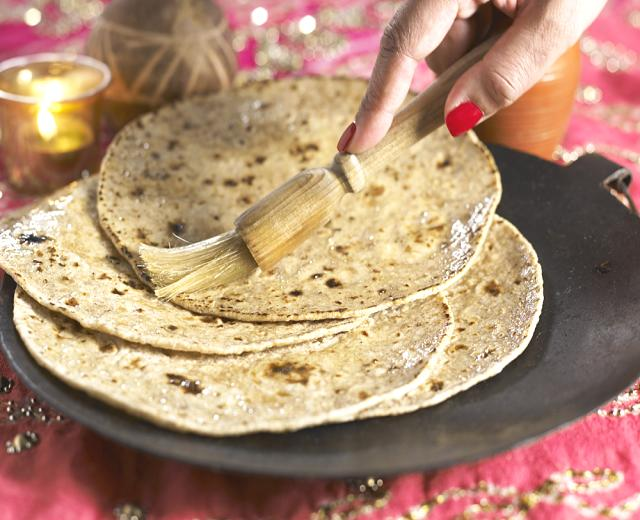chapati: (0, 77, 543, 436)
